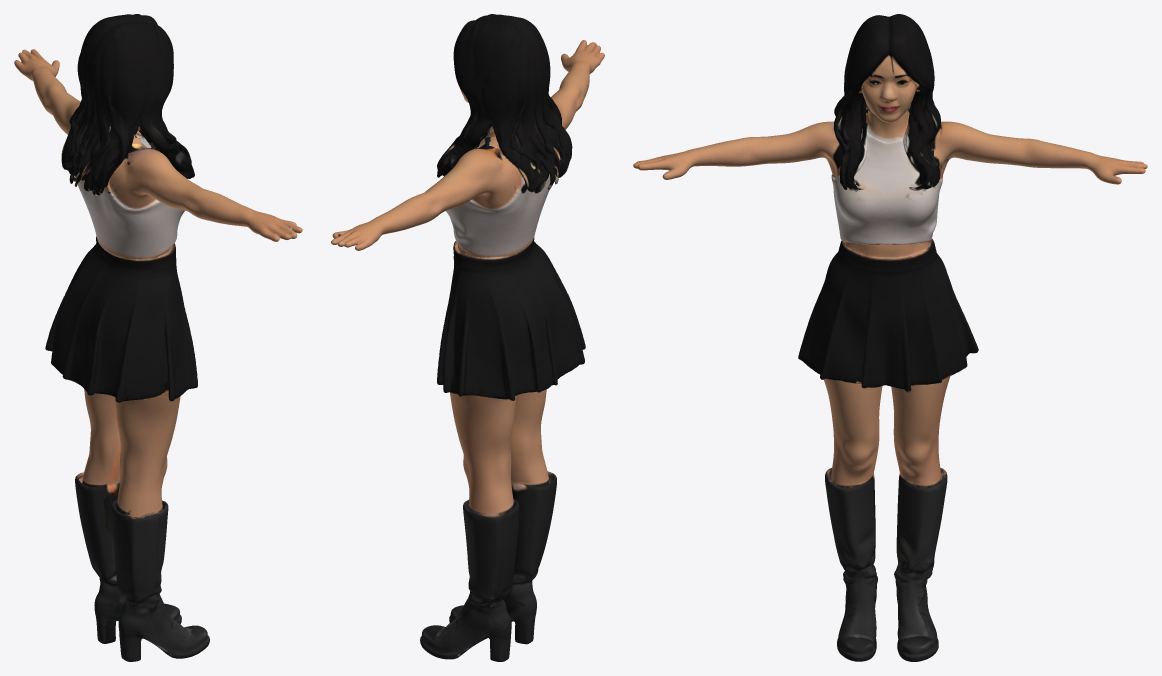
File: tripo_pbr_model_f7ca13bb-15b5-471d-919c-8d827fbe8e52_meshopt.glb
The picture shows the model from 3 angles, left to right: view 1: azimuth 30°, elevation 25°; view 2: azimuth 150°, elevation 25°; view 3: azimuth 270°, elevation 25°; orthographic projection. The views are drawn at different scales.
Parts seen in each view (by area): view 1: tripo_node_f7ca13bb-15b5-471d-919c-8d827fbe8e52; view 2: tripo_node_f7ca13bb-15b5-471d-919c-8d827fbe8e52; view 3: tripo_node_f7ca13bb-15b5-471d-919c-8d827fbe8e52.
Boxes of the visible parts, x1,y1,x2,y2 form: tripo_node_f7ca13bb-15b5-471d-919c-8d827fbe8e52: [14, 14, 302, 661]; tripo_node_f7ca13bb-15b5-471d-919c-8d827fbe8e52: [331, 14, 604, 661]; tripo_node_f7ca13bb-15b5-471d-919c-8d827fbe8e52: [633, 14, 1147, 661].
Bounding box in the file's own units: 0.2121 × 1 × 0.7613.
Materials: 1 (1 with a texture image).
